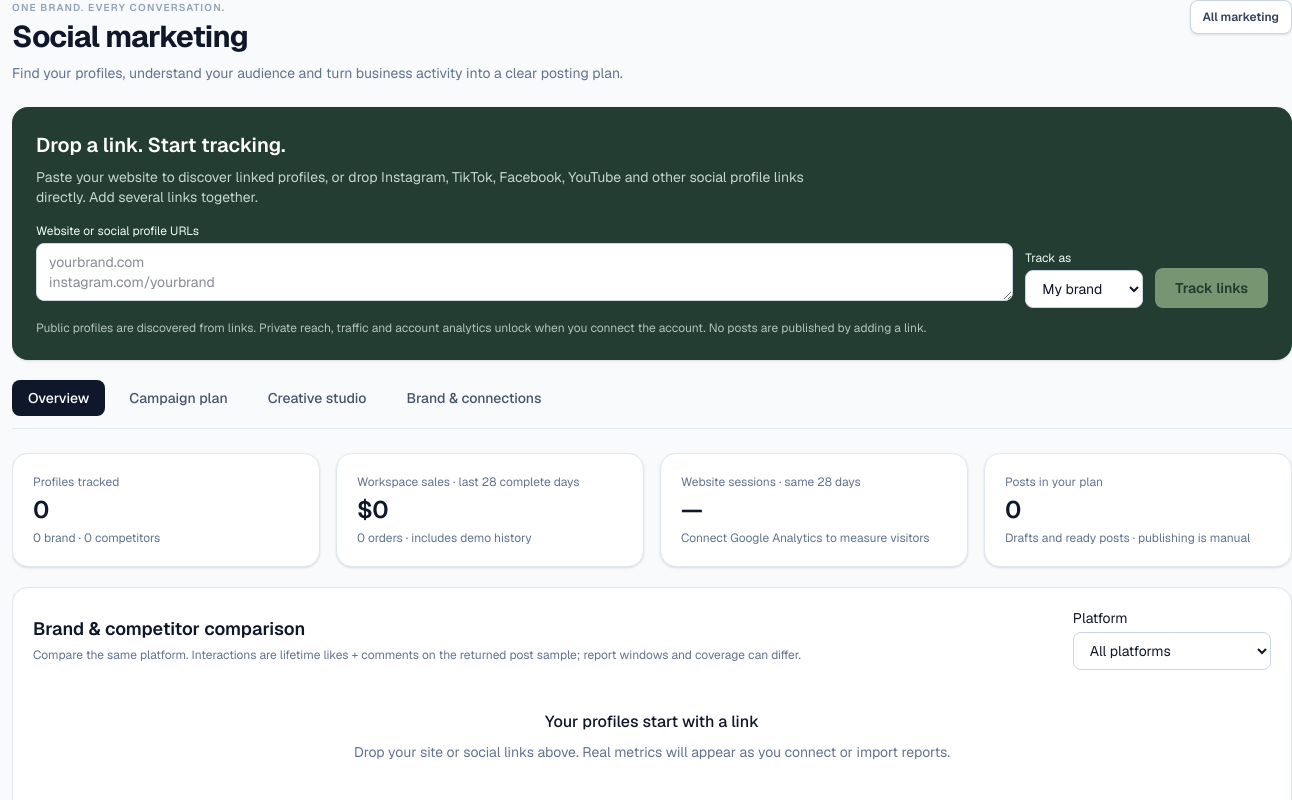
Test: retains a failed URL so it can be corrected, and requires provider setup before image creation
Type "instagram.com/p/123" into the text box labelled "Website or social profile URLs". click: (525,272)
box: left=36, top=243, right=1013, bottom=301
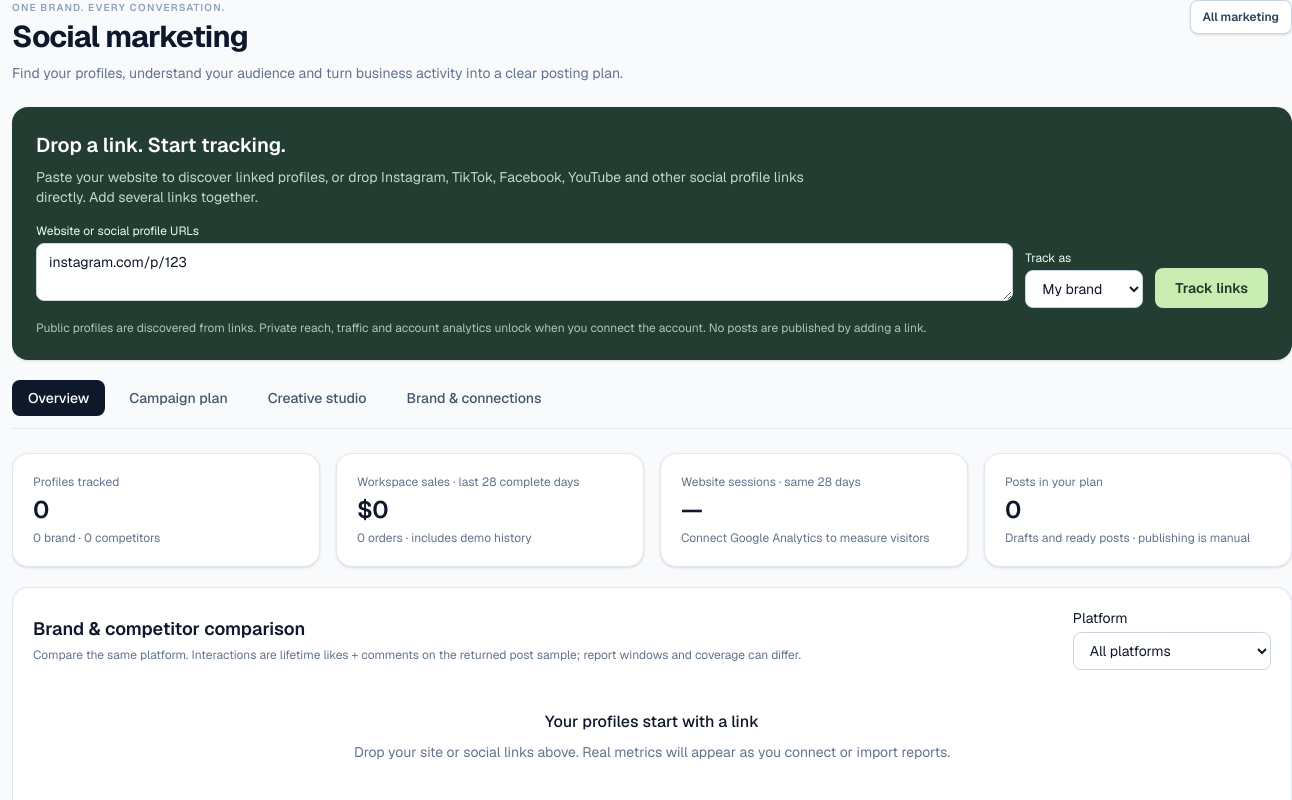
Click the button "Track links". click: (1212,288)
box: left=1155, top=268, right=1268, bottom=308
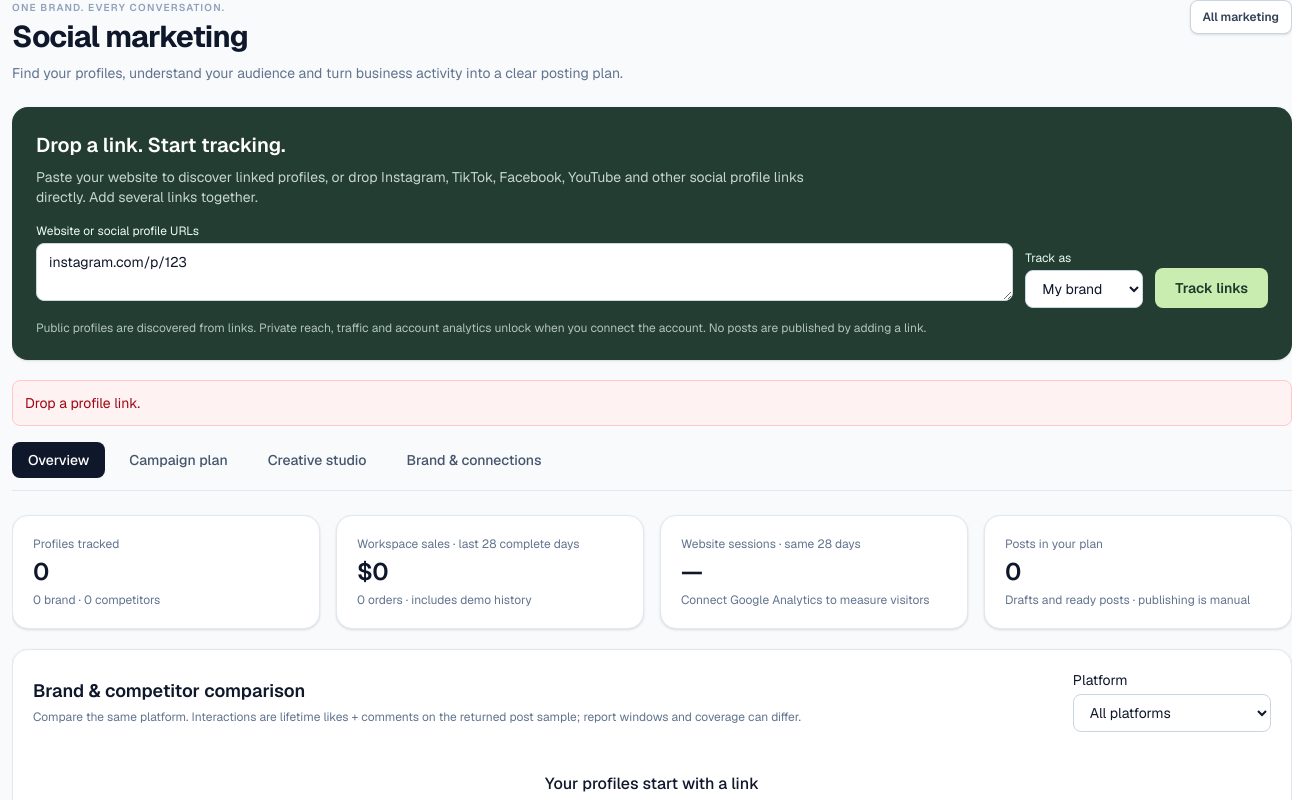
expect the message reads "Drop a profile link.": met, box left=25, top=394, right=140, bottom=412
Click the button "Creative studio". click: (317,460)
box: left=252, top=442, right=383, bottom=478
(page scrolled)
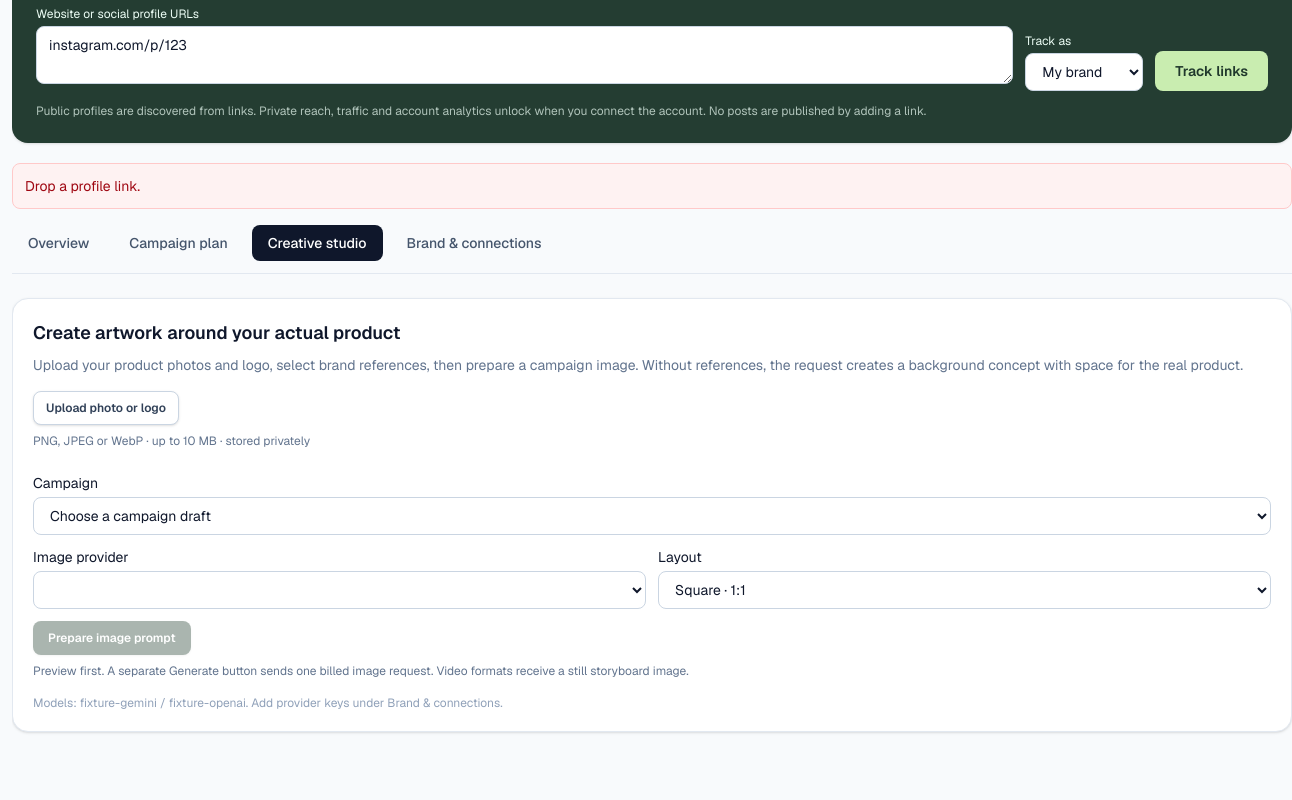
expect the button "Prepare image prompt" is disabled: met, box left=33, top=621, right=191, bottom=655
